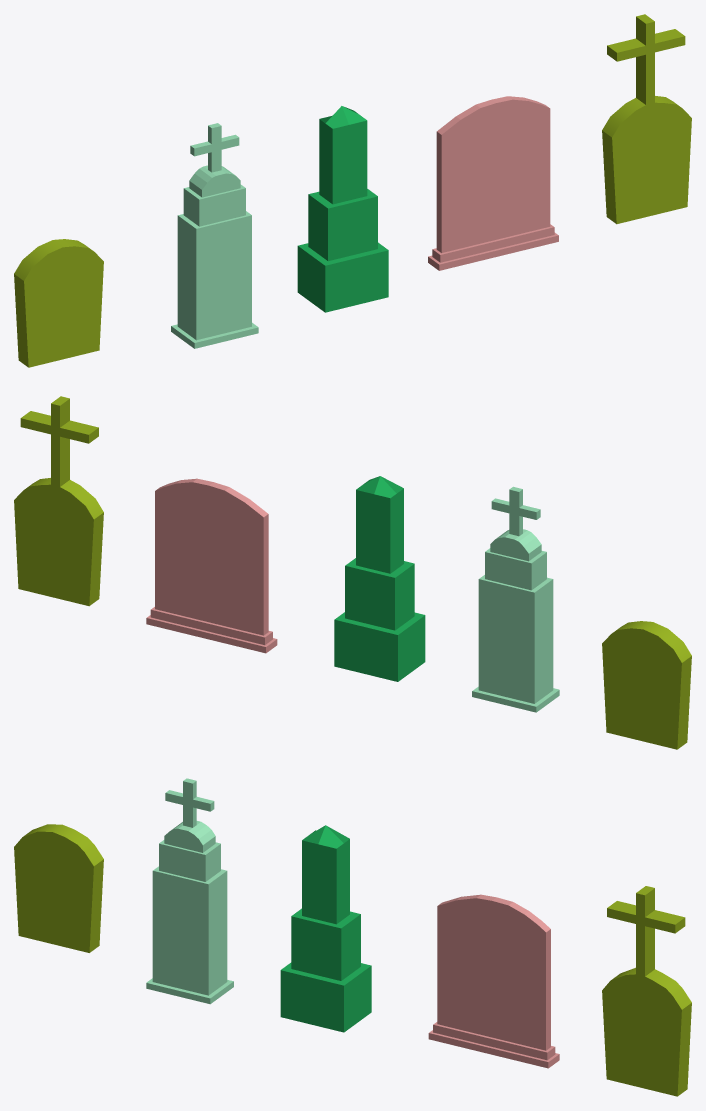
The model's file is graves pack.obj.
The picture shows the model from 3 angles, top to bottom: view 1: azimuth 30°, elevation 25°; view 2: azimuth 150°, elevation 25°; view 3: azimuth 330°, elevation 25°; orthographic projection.
Parts seen in each view (by area): view 1: Box004, Box005, Box002, Box003, Box001; view 2: Box004, Box005, Box002, Box003, Box001; view 3: Box004, Box005, Box002, Box003, Box001.
Part boxes in pixels (<box>): Box004: <box>428,96,558,270</box>; Box005: <box>171,123,258,348</box>; Box002: <box>297,106,388,312</box>; Box003: <box>602,14,691,224</box>; Box001: <box>14,239,103,367</box>; Box004: <box>146,478,277,653</box>; Box005: <box>472,486,559,712</box>; Box002: <box>334,476,425,681</box>; Box003: <box>14,396,103,606</box>; Box001: <box>602,621,691,749</box>; Box004: <box>428,894,559,1068</box>; Box005: <box>146,778,233,1004</box>; Box002: <box>280,825,371,1032</box>; Box003: <box>602,886,691,1096</box>; Box001: <box>14,824,103,952</box>.
Size of the model in its own units: 1065 by 316 by 83.15.
